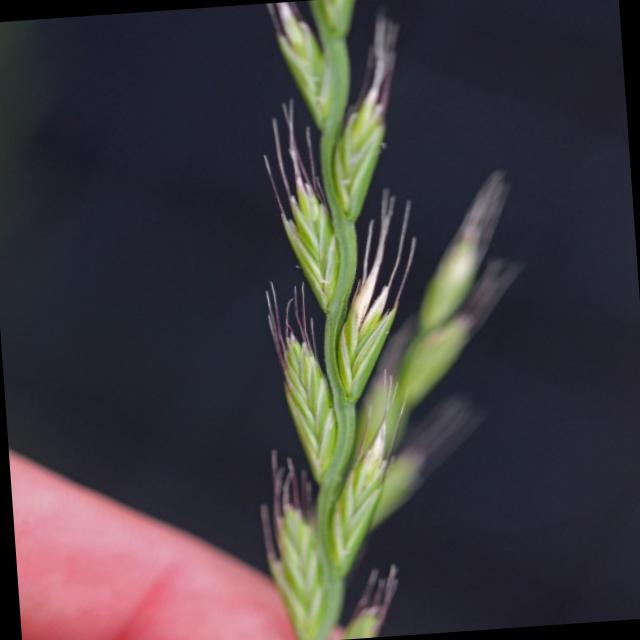Lolium: (219, 0, 551, 640)
